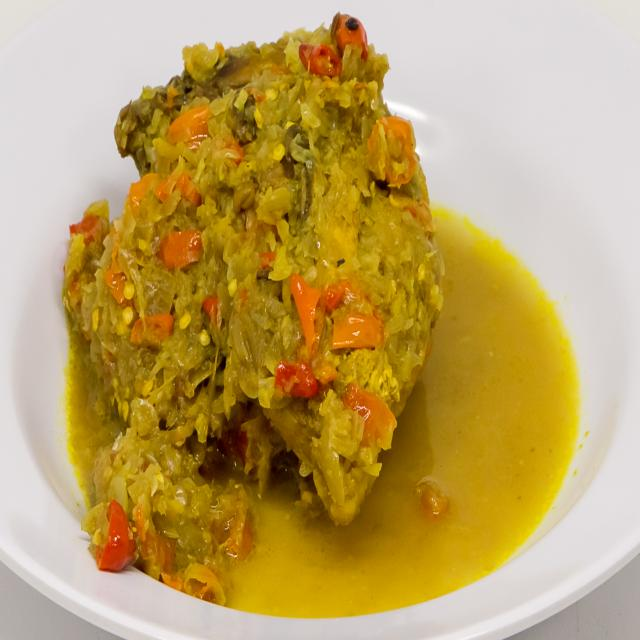Ayam-Betutu: (57, 7, 451, 616)
